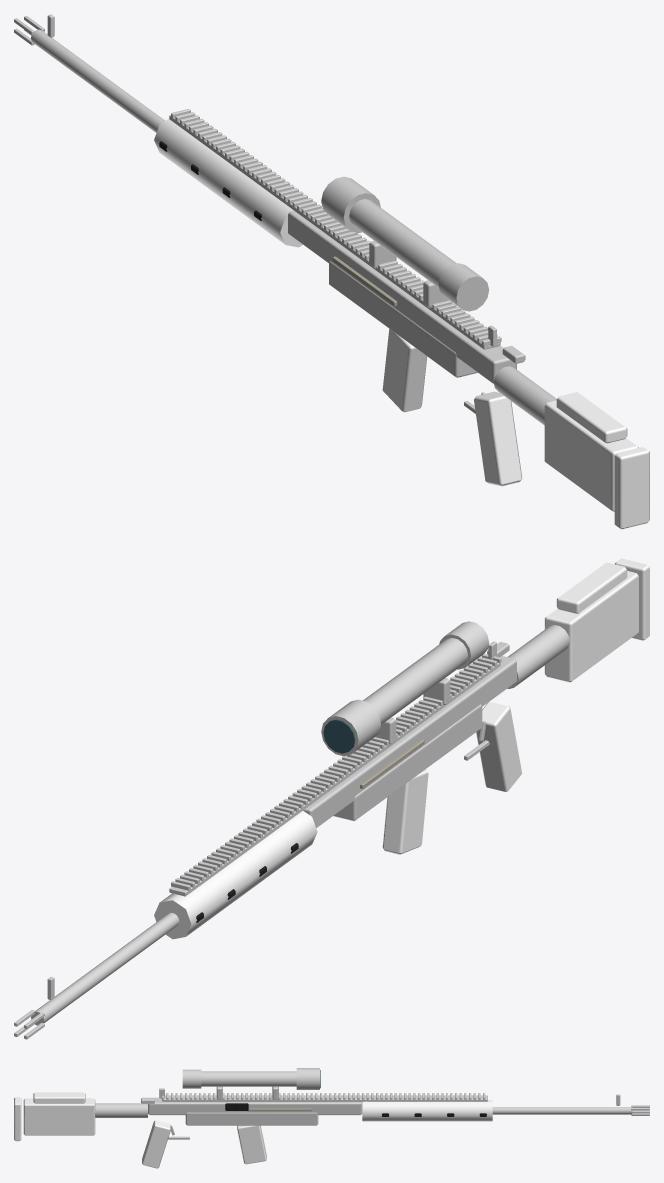
Rendered from hawkeye.glb.
3 views of the same model, one above another, from view 1: azimuth 30°, elevation 25°; view 2: azimuth 150°, elevation 25°; view 3: azimuth 270°, elevation 25° (orthographic). The views are drawn at different scales.
Bounding box in the file's own units: 0.05 × 0.2307 × 1.37.
5 materials, 1 textured.
